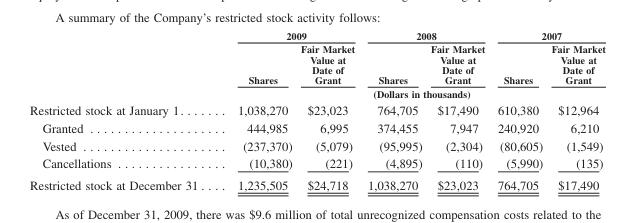table: (29, 29, 604, 191)
table column: (29, 29, 220, 191), (220, 29, 295, 191), (295, 29, 360, 191), (360, 29, 425, 191), (425, 29, 490, 191), (546, 29, 604, 191), (490, 29, 546, 191)
table column header: (29, 29, 604, 100)
table row: (29, 41, 604, 86), (29, 154, 604, 173), (29, 100, 604, 118), (29, 118, 604, 136), (29, 136, 604, 154), (29, 173, 604, 191), (29, 86, 604, 100), (29, 29, 604, 41)
table spanning cell: (220, 86, 604, 100), (220, 29, 360, 41), (360, 29, 490, 41), (490, 29, 604, 41)
